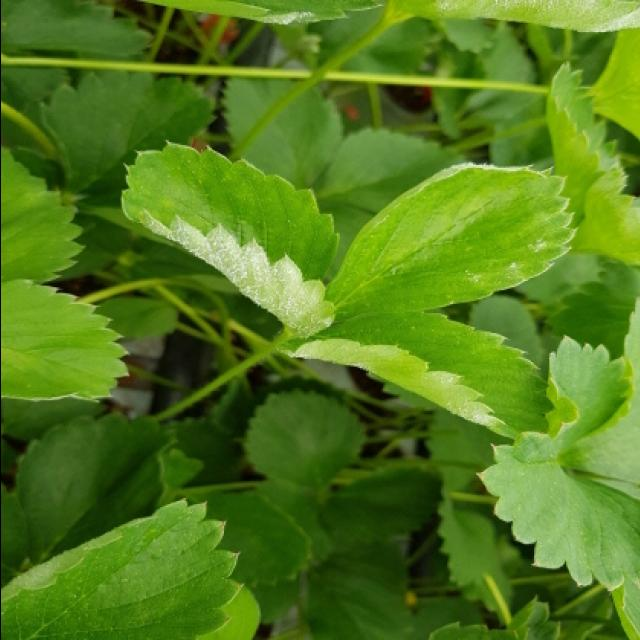Powdery Mildew Leaf: (119, 141, 340, 336), (323, 160, 577, 325), (275, 310, 556, 441), (150, 2, 383, 26)
